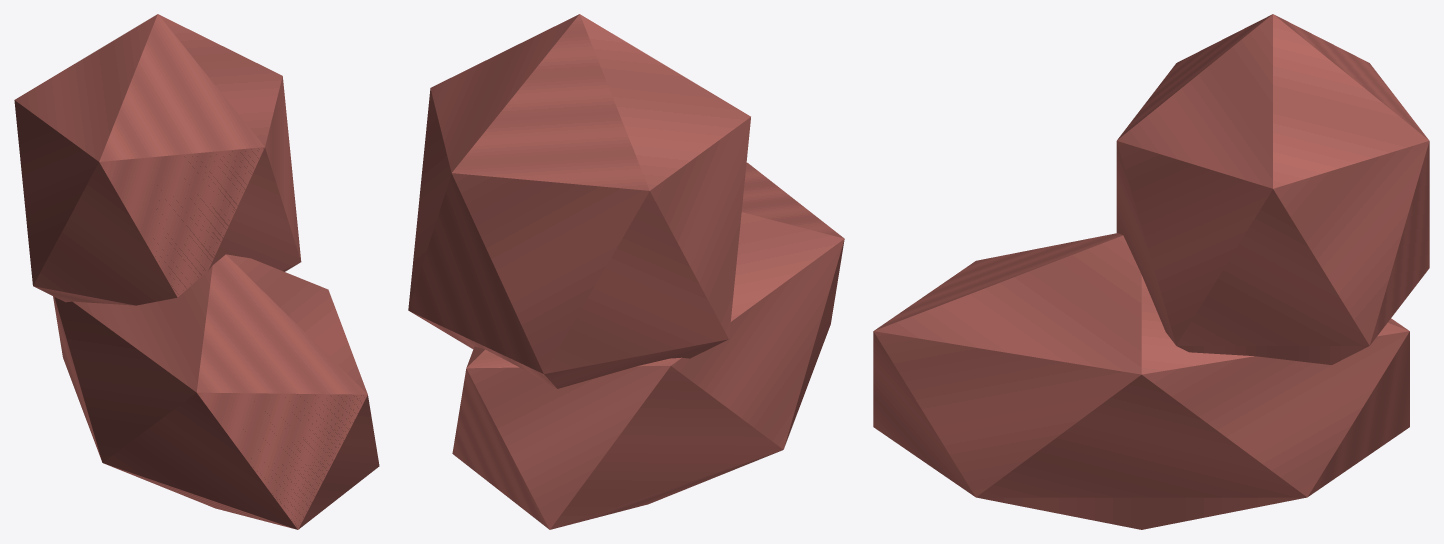
File: slow_force.glb
The picture shows the model from 3 angles, left to right: view 1: azimuth 30°, elevation 25°; view 2: azimuth 150°, elevation 25°; view 3: azimuth 270°, elevation 25°; orthographic projection. The views are drawn at different scales.
Visible parts, largest first — view 1: gear_slow_force; view 2: gear_slow_force; view 3: gear_slow_force.
Part boxes in pixels (x1,y1,x2,y2): gear_slow_force: [14, 14, 379, 529]; gear_slow_force: [408, 14, 844, 529]; gear_slow_force: [873, 14, 1429, 529].
Bounding box in the file's own units: 0.1878 × 0.325 × 0.3174.
1 material, 1 textured.
